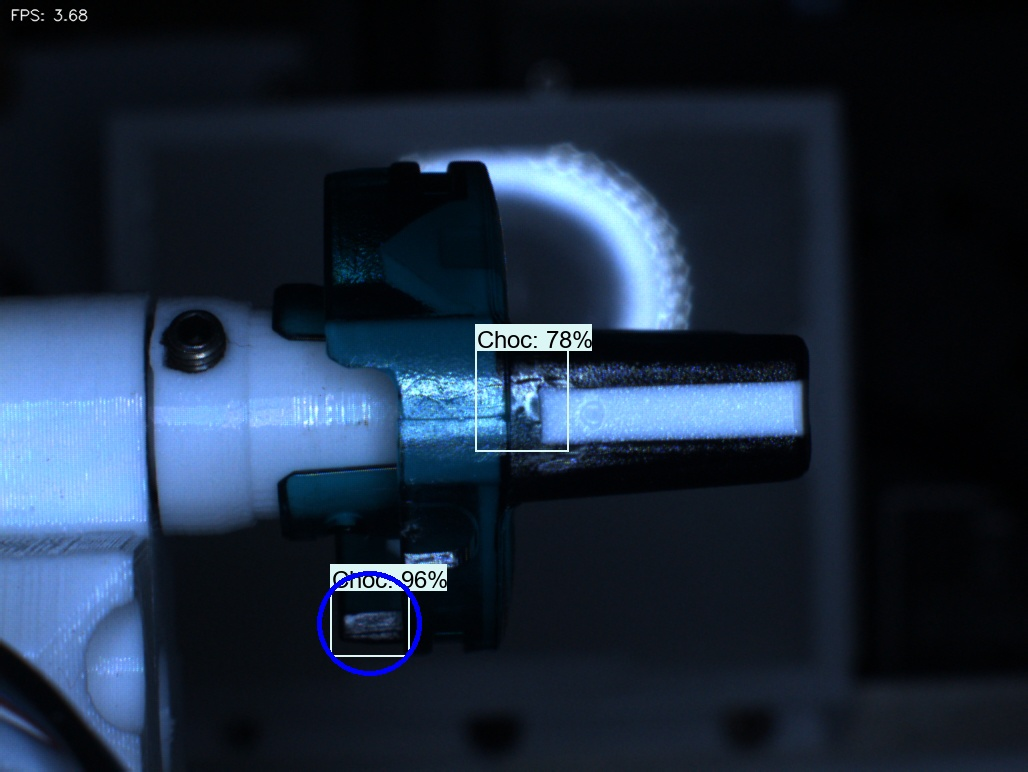DentOk: (352, 211, 421, 301)
